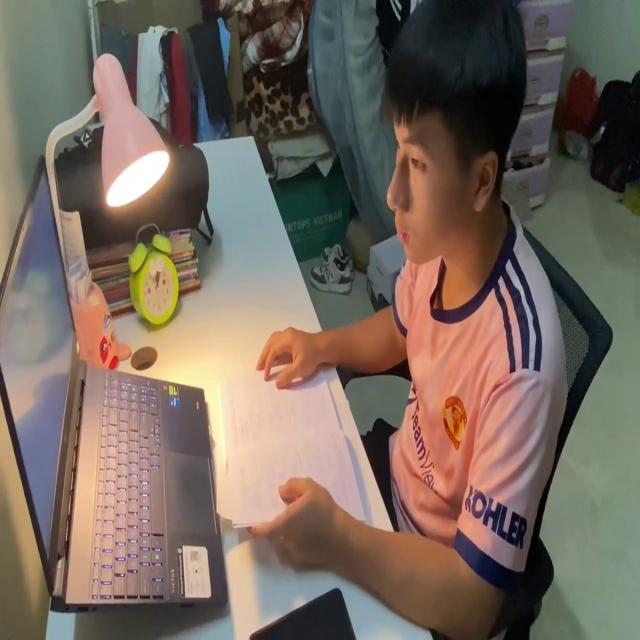book: (214, 358, 360, 547)
laptop: (0, 144, 230, 615)
phone: (249, 579, 357, 640)
student: (236, 6, 570, 640)
